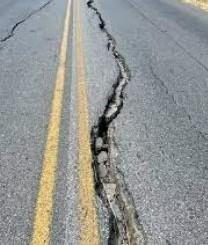crack: (80, 1, 143, 245), (2, 0, 57, 47)
